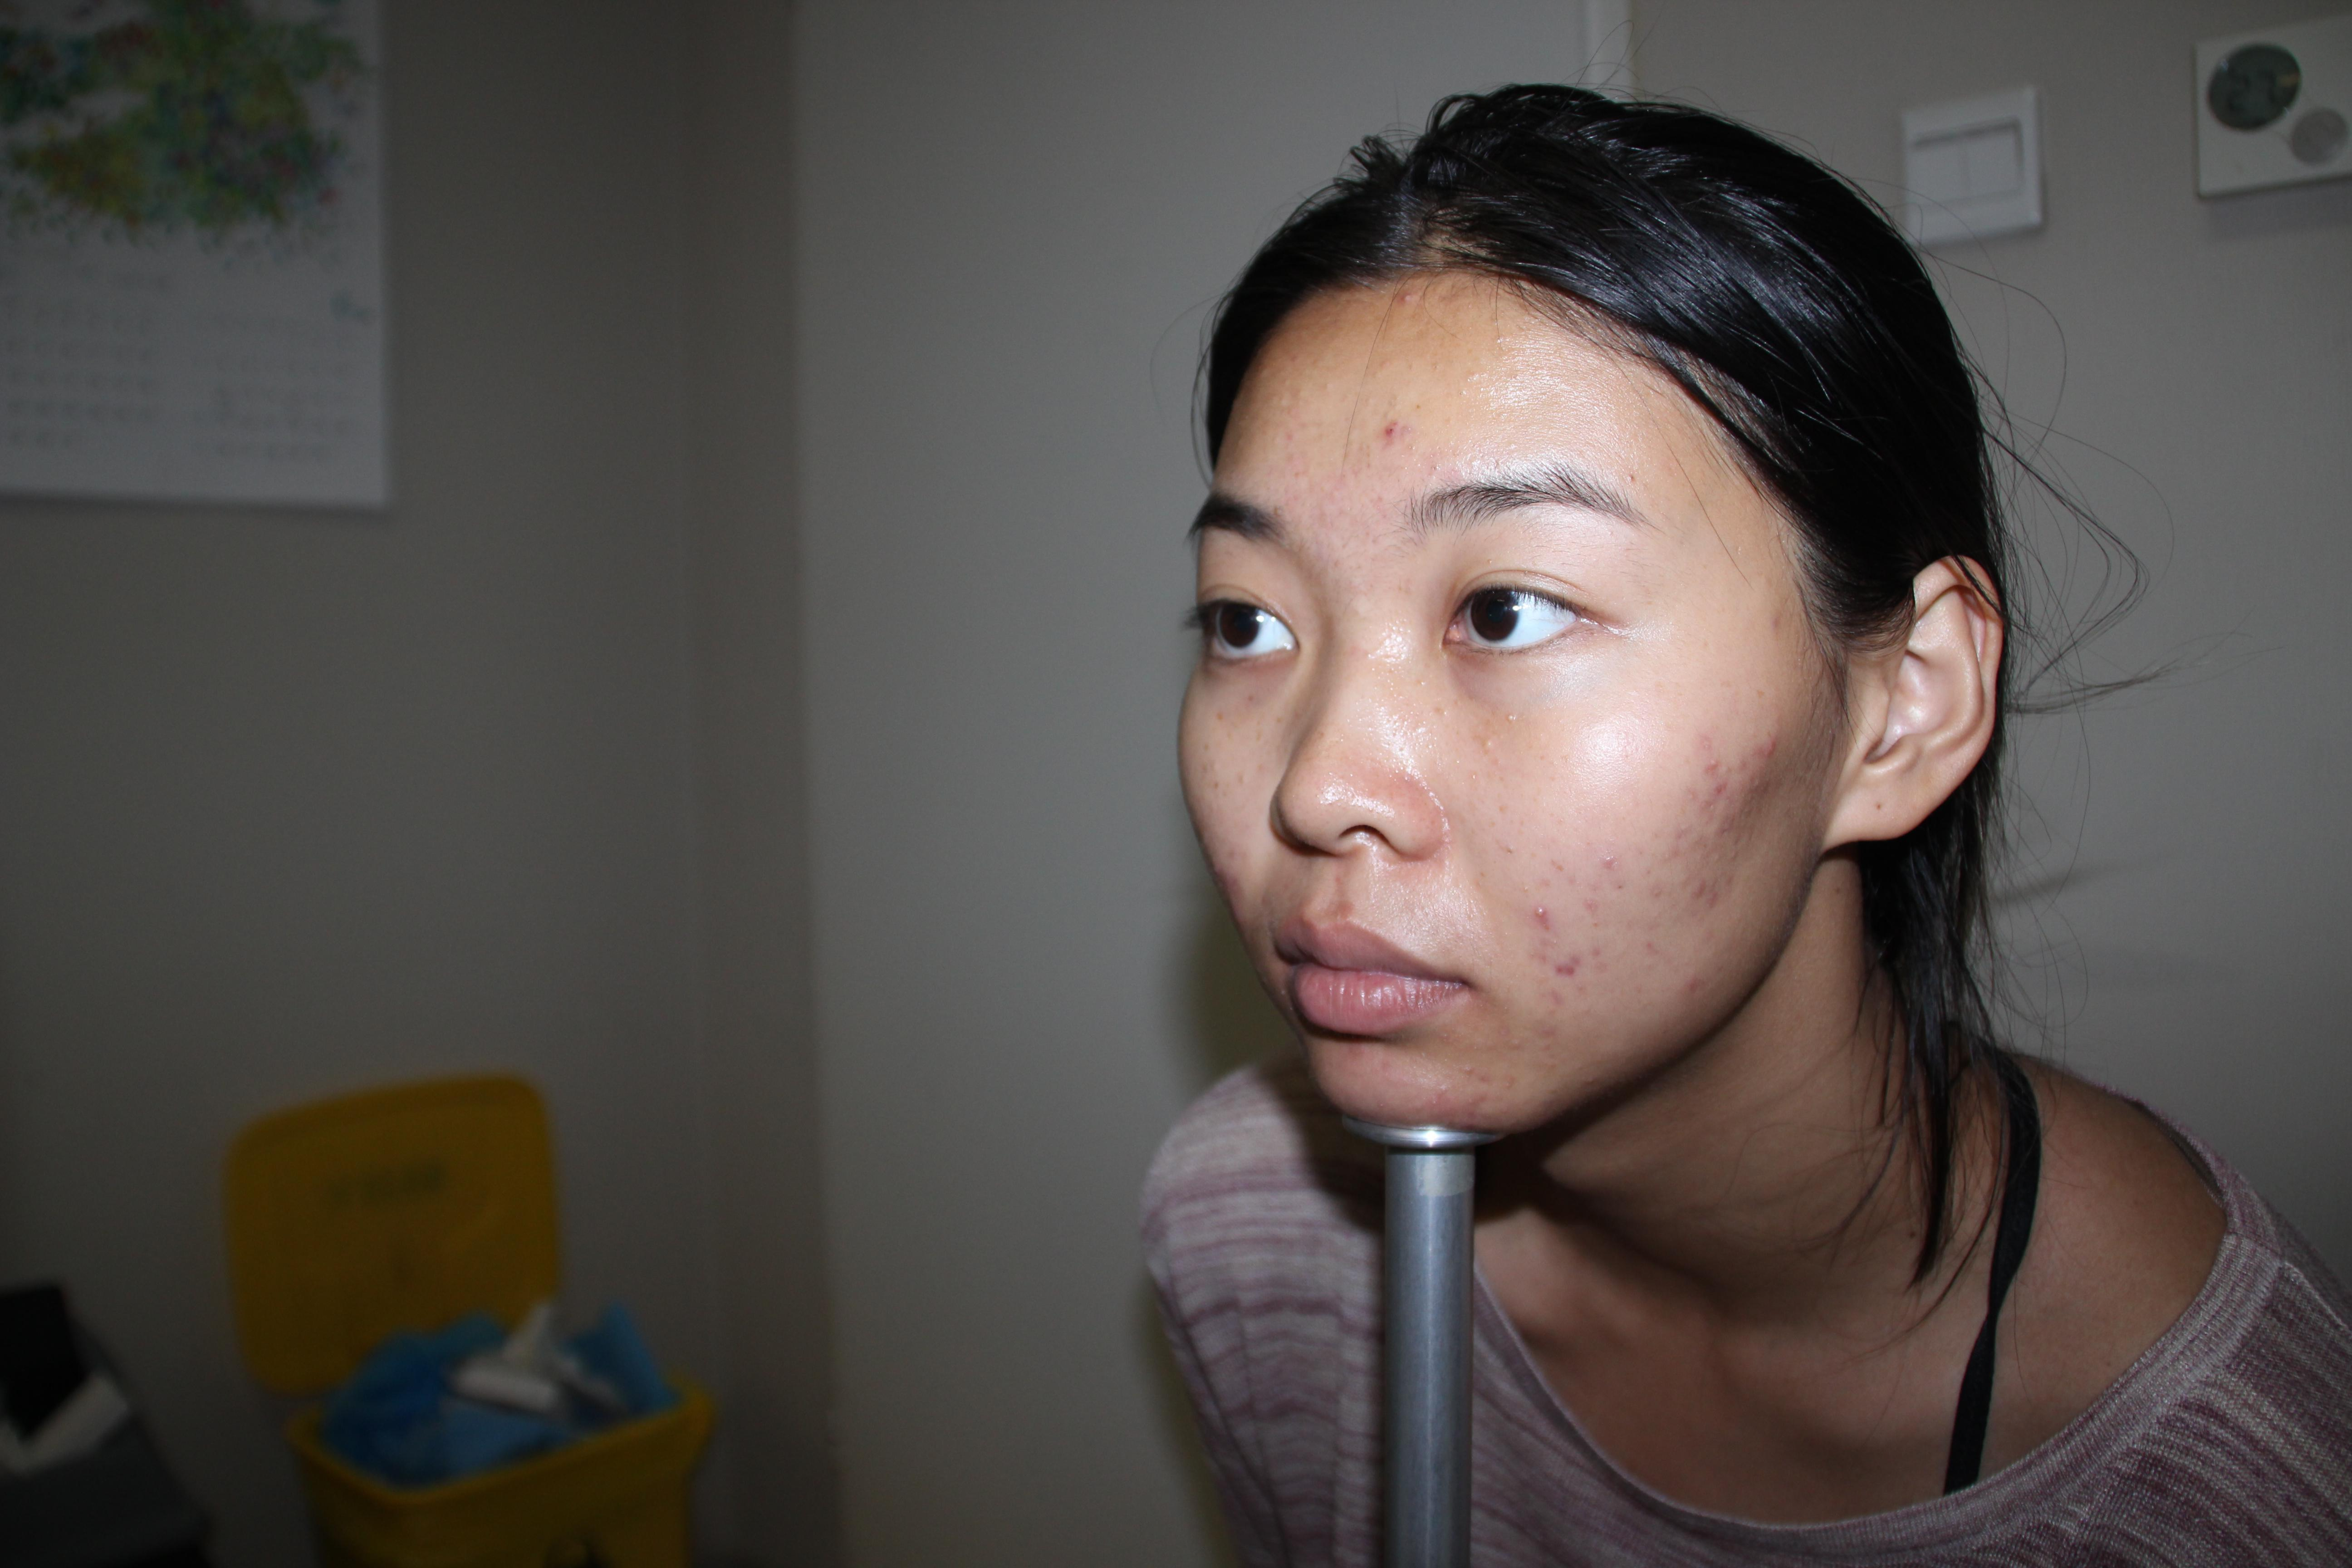fore: (1682, 865, 1754, 915), (1747, 721, 1797, 780), (1360, 402, 1412, 458), (1698, 756, 1747, 808), (1675, 968, 1718, 1008), (1522, 884, 1563, 924), (1551, 948, 1582, 987)
